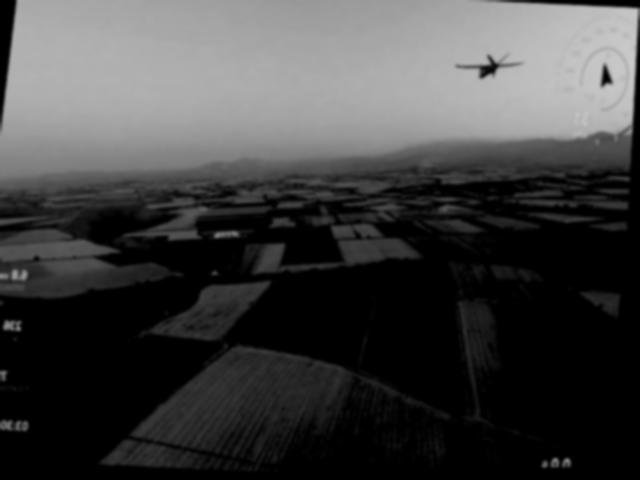hedef: (438, 29, 536, 106)
